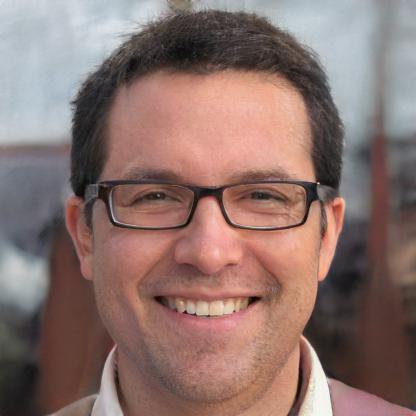glasses: (95, 172, 319, 240)
